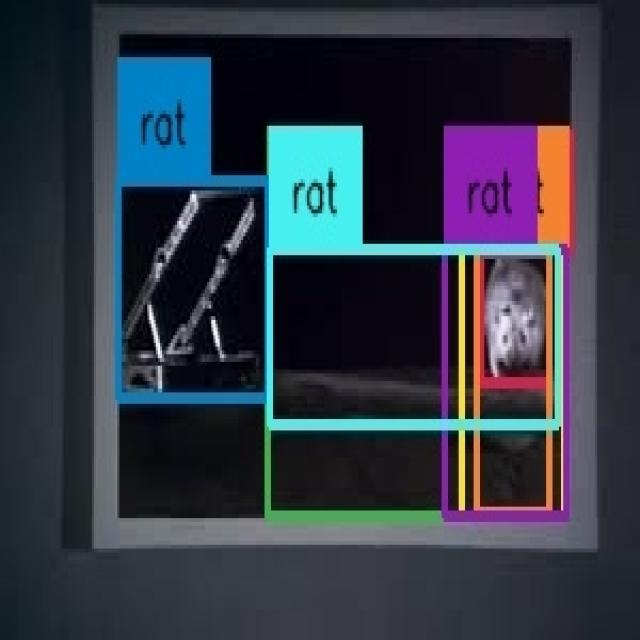rat: (266, 250, 568, 516), (271, 252, 559, 426), (444, 250, 567, 516), (119, 181, 269, 398), (462, 252, 564, 514), (478, 252, 550, 514), (481, 251, 549, 385)
